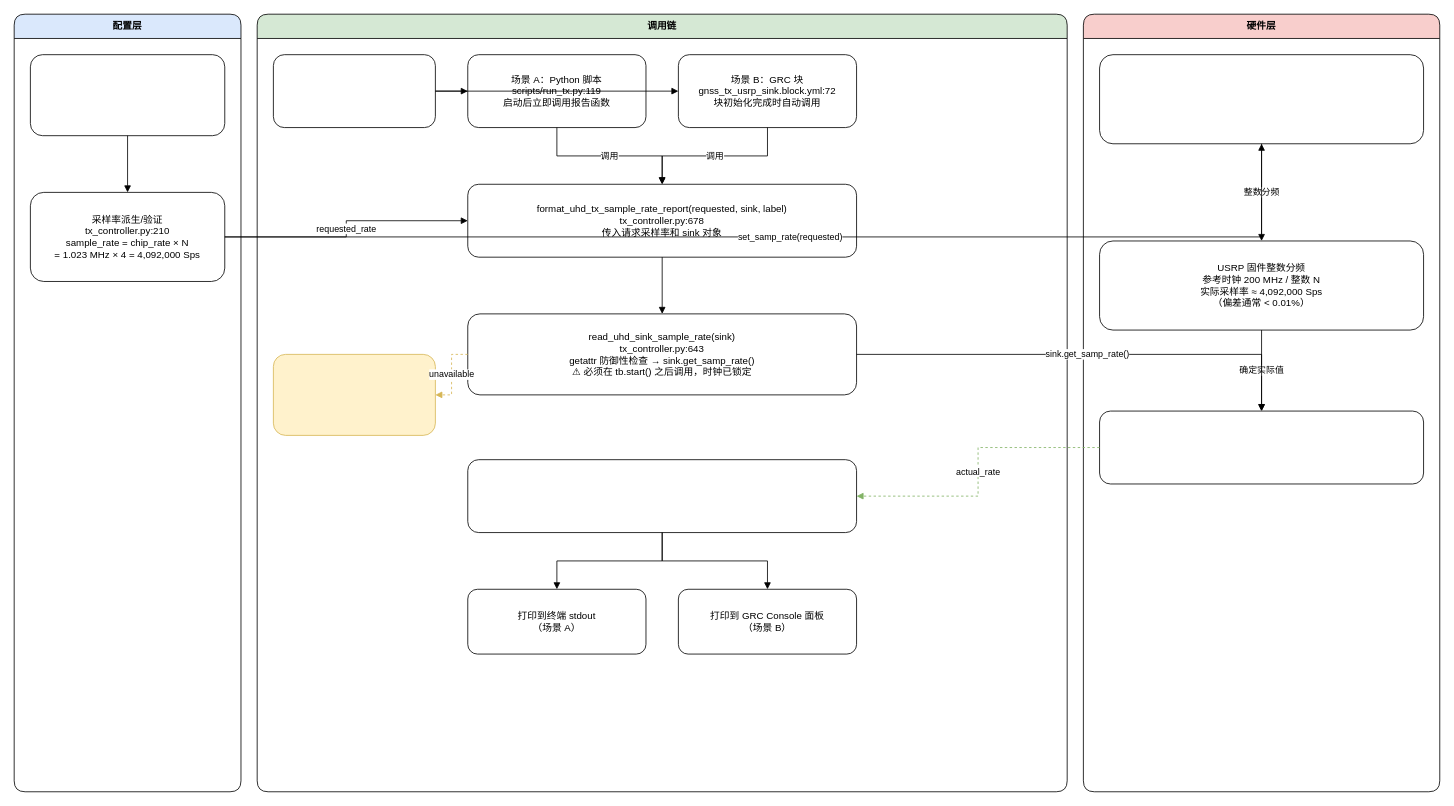
Image size: 1454x806. Some labels were removed from this diagram. Each missing label, with the centre of its shape:
"[WARN] actual sample-rate readback is unavailable. （sink=None 或设备不支持）" belongs at point 354,394.
"tb.start() GNU Radio 流图启动 USRP 时钟锁定完成" belongs at point 354,91.
"USRP Sink 初始化 b210_sink.py:48 sink.set_samp_rate(requested) UHD 驱动选择最接近的整数分频系数" belongs at point 1261,99.
"YAML 配置文件 configs/*.yaml samples_per_chip = 4 （可直接指定）" belongs at point 127,95.
"实际采样率 硬件固件确定的真实值 通过 get_samp_rate() 回读至调用链" belongs at point 1261,447.
"计算偏差并格式化报告 delta = actual - requested delta_ratio = delta / requested" belongs at point 662,496.
